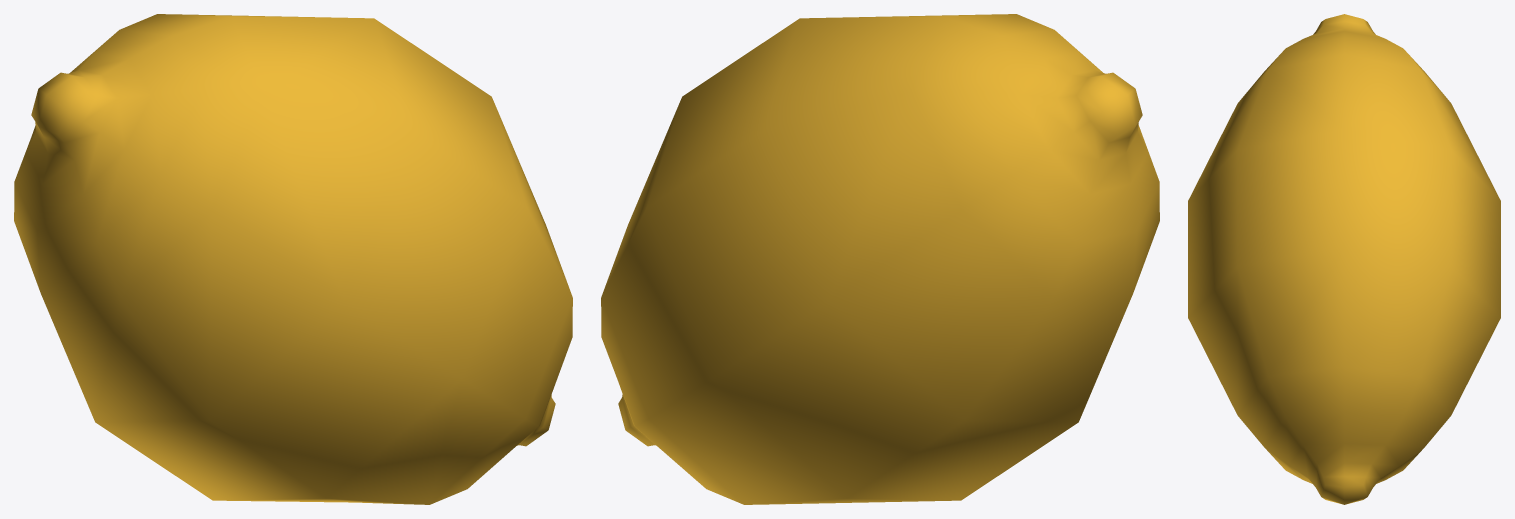
Rendered from Lemon.fbx.
3 views of the same model, side by side, from view 1: azimuth 30°, elevation 25°; view 2: azimuth 150°, elevation 25°; view 3: azimuth 270°, elevation 25° (orthographic). The views are drawn at different scales.
Parts seen in each view (by area): view 1: Lemon; view 2: Lemon; view 3: Lemon.
Part boxes in pixels (x1,y1,x2,y2): Lemon: [14, 14, 572, 504]; Lemon: [601, 14, 1159, 504]; Lemon: [1188, 14, 1500, 504].
Size of the model in its own units: 118 by 114 by 87.68.
